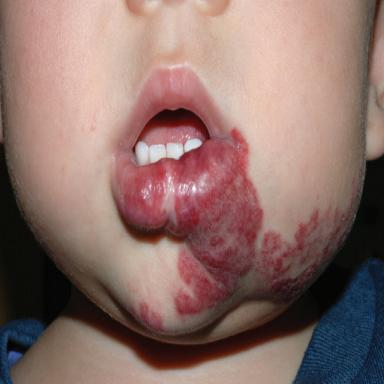Hemangiome: (113, 131, 263, 315)
